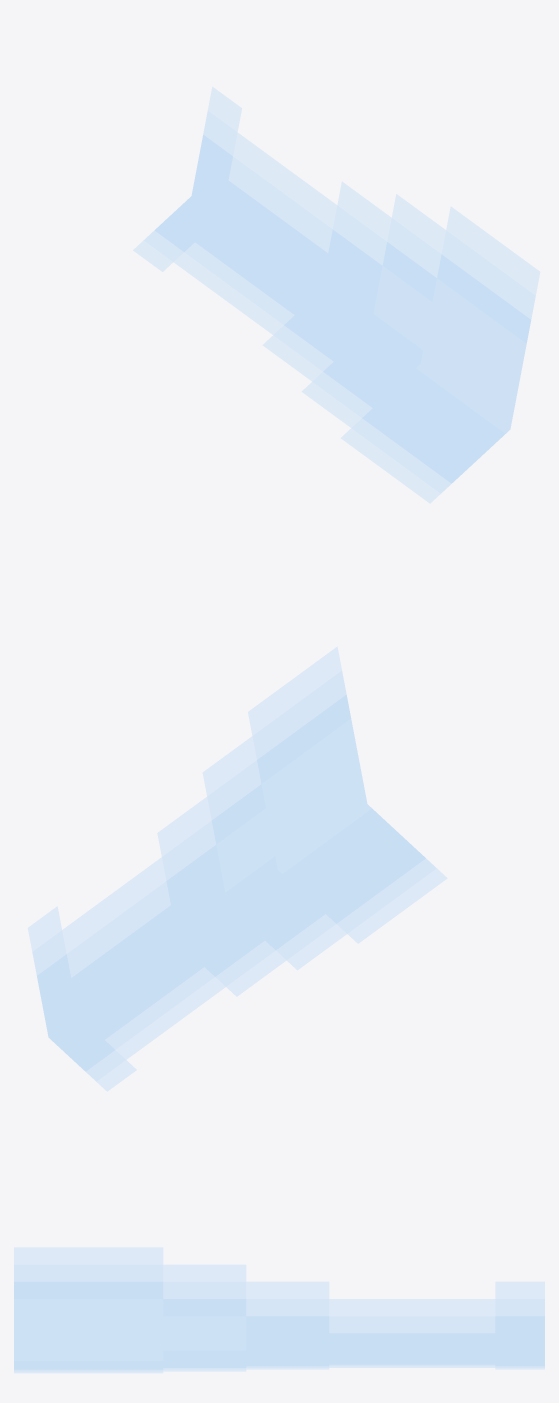
3 views of the same model, one above another, from view 1: azimuth 30°, elevation 25°; view 2: azimuth 150°, elevation 25°; view 3: azimuth 270°, elevation 25° (orthographic). The views are drawn at different scales.
Bounding box in the file's own units: 0.3838 × 0.5088 × 1.
1 material, 1 textured.
